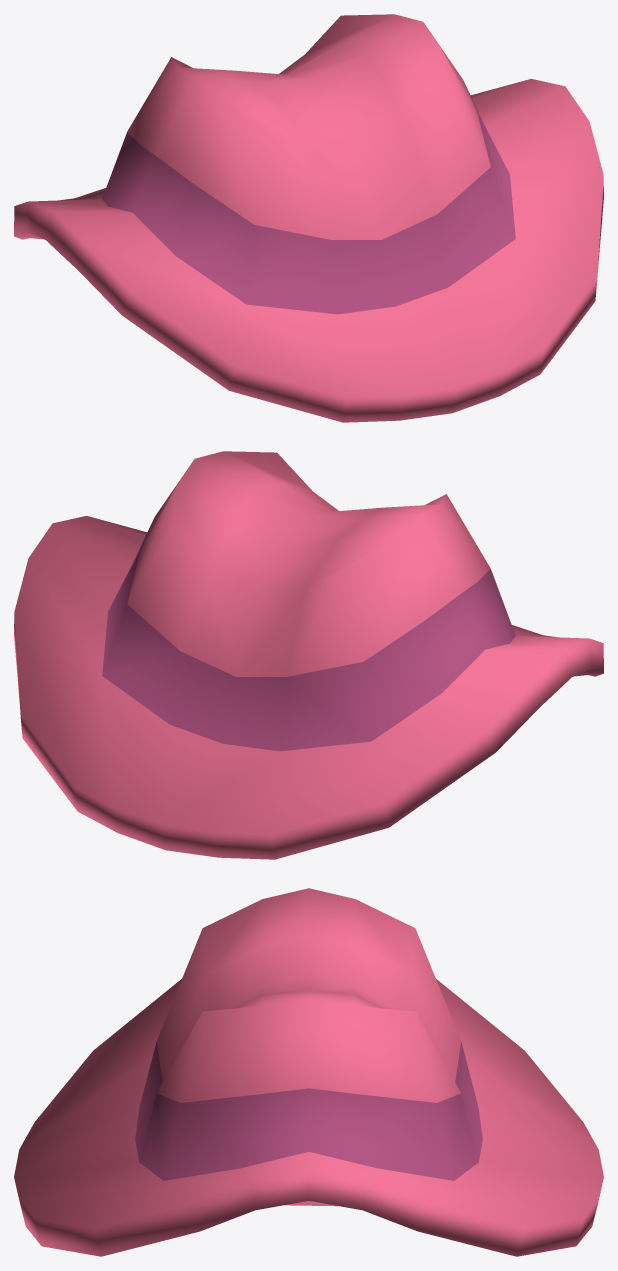
File: Hat_Cowboy_Girlypop.fbx
The picture shows the model from 3 angles, top to bottom: view 1: azimuth 30°, elevation 25°; view 2: azimuth 150°, elevation 25°; view 3: azimuth 270°, elevation 25°; orthographic projection.
Parts seen in each view (by area): view 1: Circle; view 2: Circle; view 3: Circle.
Boxes of the visible parts, x1=… form: Circle: x1=14, y1=14, x2=603, y2=422; Circle: x1=14, y1=451, x2=603, y2=859; Circle: x1=14, y1=888, x2=603, y2=1256.
Size of the model in its own units: 121 by 56.73 by 116.
